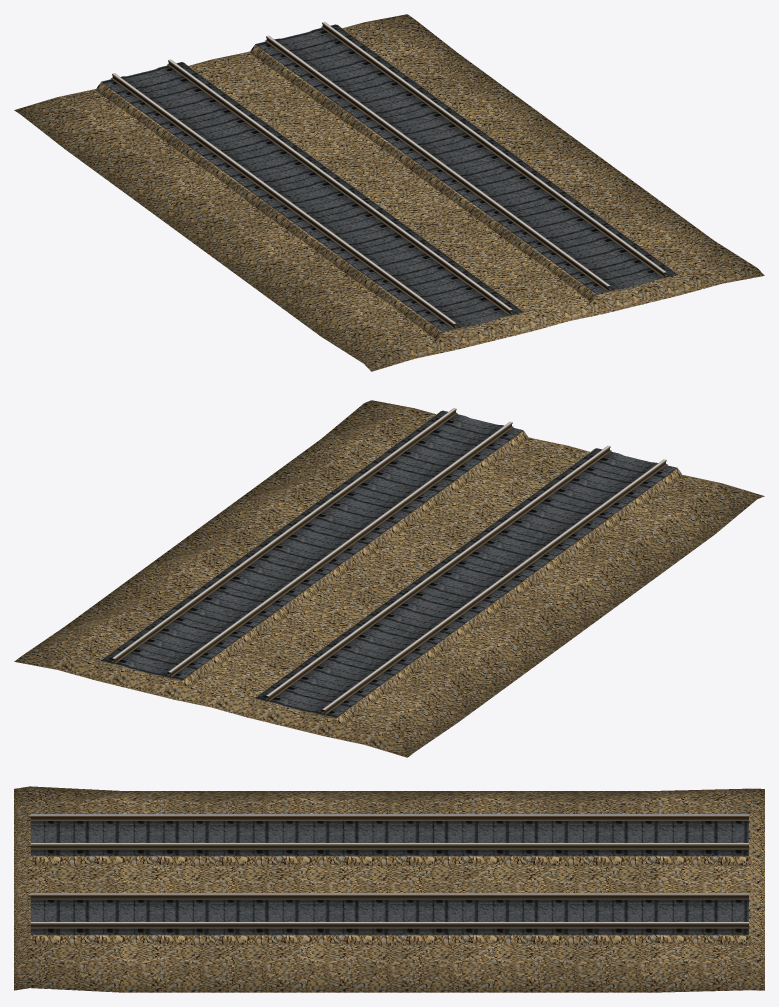
Rendered from 2RAIL_50_IN.glb.
3 renders of one model, top to bottom at view 1: azimuth 30°, elevation 25°; view 2: azimuth 150°, elevation 25°; view 3: azimuth 270°, elevation 25°, orthographic. The views are drawn at different scales.
Visible parts, largest first — view 1: obj6; view 2: obj6; view 3: obj6.
Part boxes in pixels (x1,y1,x2,y2): obj6: (14,14,764,371); obj6: (14,400,764,757); obj6: (14,786,764,992).
Bounding box in the file's own units: 33.22 × 1.77 × 52.26.
3 materials, 2 textured.
